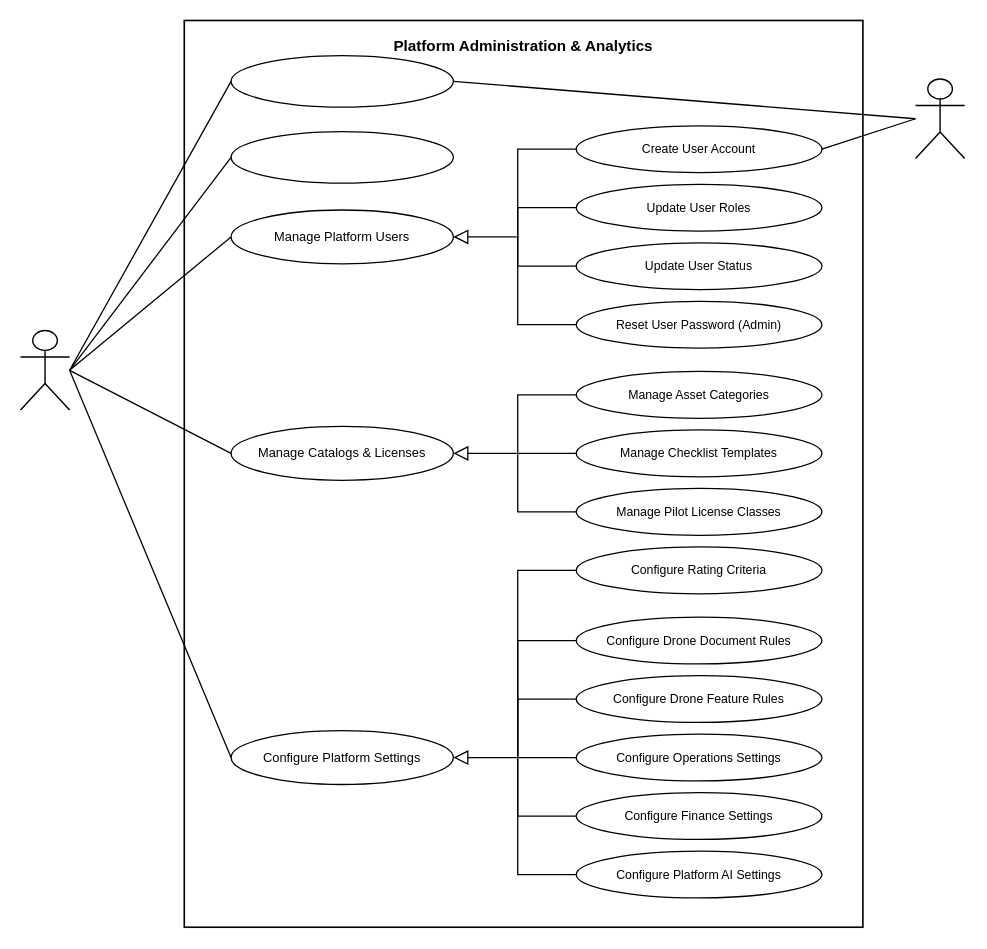
Image size: 987x949. Some labels were removed from this diagram. Here are the shapes that lost their labels. From the top down, the centre of each, then its label:
the point at 341,80: View Dashboard Analytics
the point at 939,118: Manager
the point at 341,156: View Admin Audit Logs
the point at 44,369: Admin
